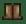legs: (1, 1, 26, 24)
